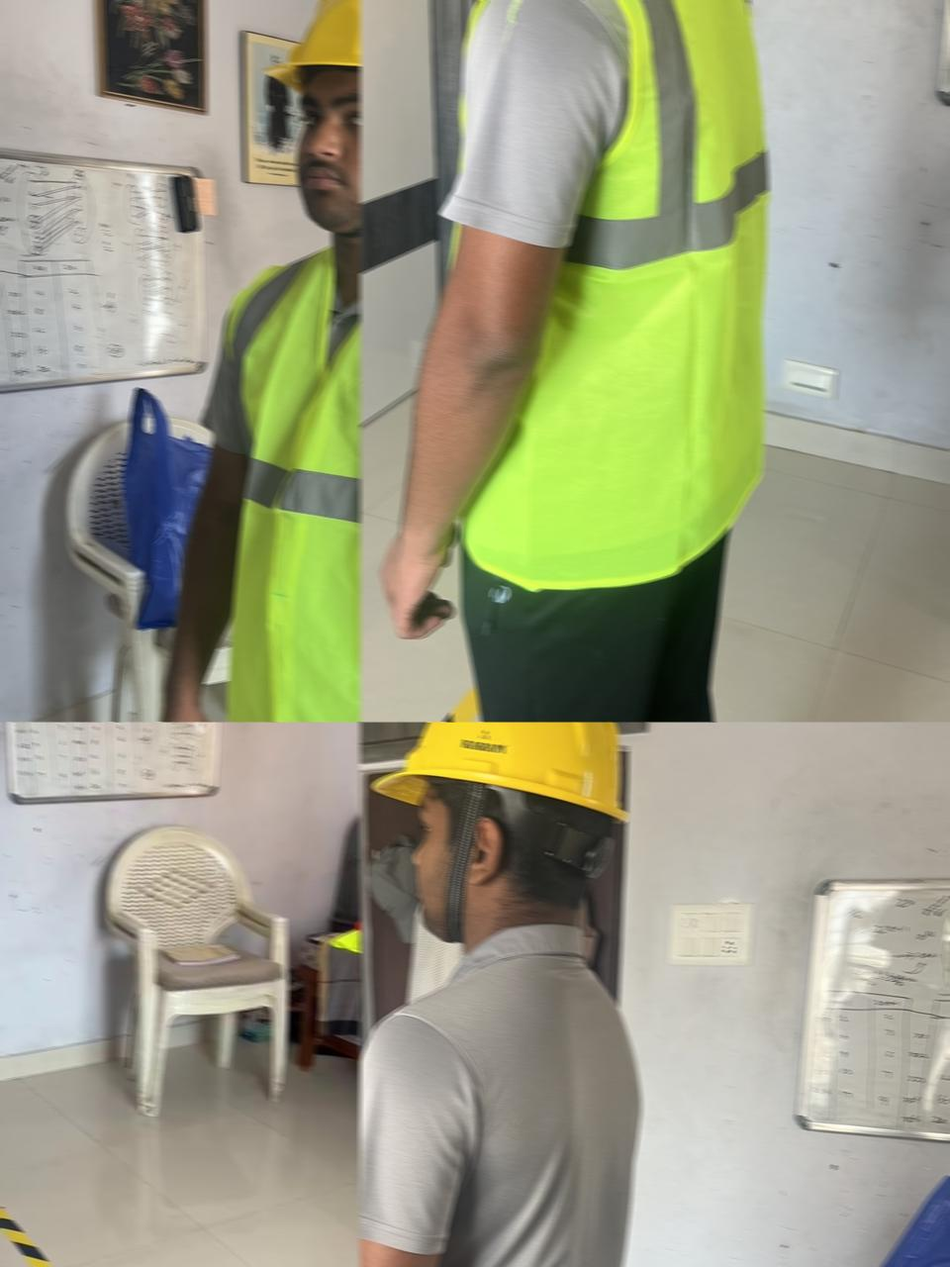BorderLine: (381, 686, 495, 722)
Helmet: (369, 722, 628, 940), (259, 0, 361, 236)
No_Vest: (359, 925, 643, 1267)
Person: (380, 0, 771, 722), (359, 722, 643, 1267), (148, 0, 361, 722)
Vest: (447, 0, 771, 591), (220, 221, 361, 722)
